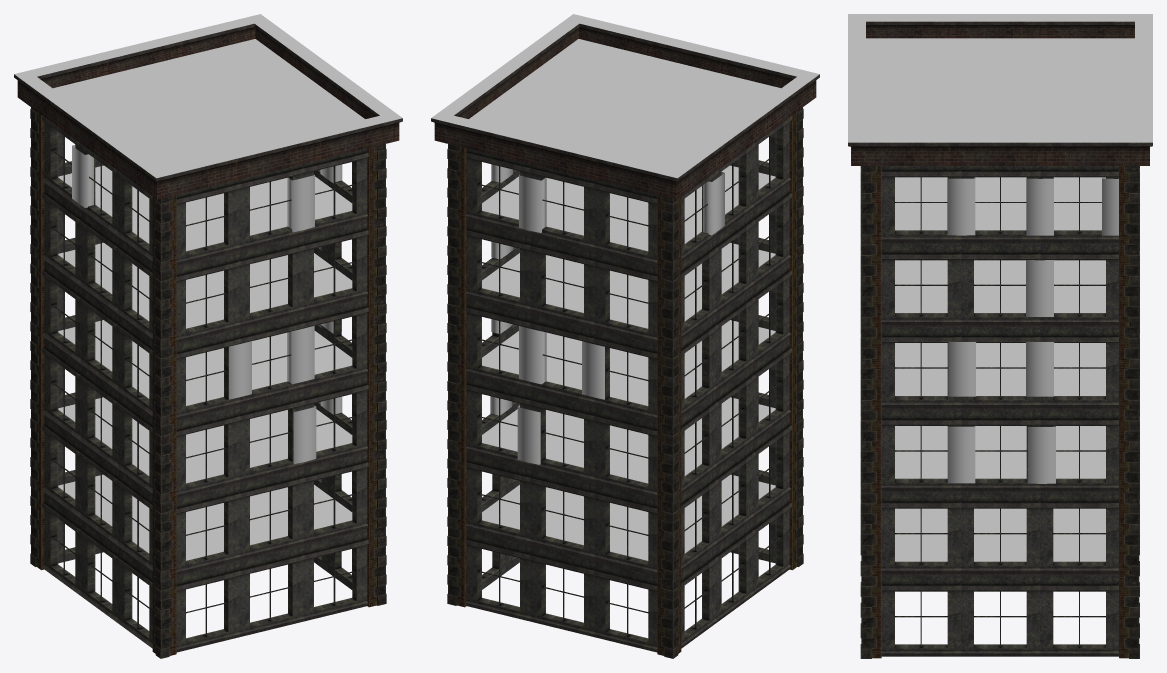
File: BuildingGreySm01.fbx
3 views of the same model, side by side, from view 1: azimuth 30°, elevation 25°; view 2: azimuth 150°, elevation 25°; view 3: azimuth 270°, elevation 25° (orthographic). The views are drawn at different scales.
Parts seen in each view (by area): view 1: Cube.294, Cube.684, Plane.104, Plane.107, Plane.105, Plane.108, Plane.106, Cube.722, Cube.721, Cube.724, Cube.723, Cube.730; view 2: Cube.294, Cube.684, Plane.104, Plane.107, Plane.105, Plane.106, Plane.108, Cube.727, Cube.726, Cube.725, Cube.728, Cube.730; view 3: Cube.294, Cube.684, Plane.104, Plane.105, Plane.106, Plane.107, Plane.108, Cube.715, Cube.729, Cube.714, Cube.720, Cube.717 (+3 smaller).
Boxes of the visible parts, box(x1,y1,x2,y2) form: Cube.294: box(30, 107, 386, 658); Cube.684: box(14, 14, 402, 199); Plane.104: box(58, 474, 352, 560); Plane.107: box(58, 242, 352, 328); Plane.105: box(58, 397, 352, 483); Plane.108: box(58, 165, 352, 251); Plane.106: box(58, 320, 352, 405); Cube.722: box(287, 326, 314, 384); Cube.721: box(287, 174, 314, 232); Cube.724: box(293, 405, 316, 464); Cube.723: box(229, 341, 251, 399); Cube.730: box(72, 145, 93, 207); Cube.294: box(447, 107, 803, 658); Cube.684: box(431, 14, 819, 199); Plane.104: box(482, 474, 775, 560); Plane.107: box(482, 242, 775, 328); Plane.105: box(482, 397, 775, 483); Plane.106: box(482, 320, 775, 405); Plane.108: box(482, 165, 775, 251); Cube.727: box(519, 326, 546, 384); Cube.726: box(519, 174, 546, 232); Cube.725: box(517, 405, 540, 464); Cube.728: box(582, 341, 604, 399); Cube.730: box(703, 172, 724, 235); Cube.294: box(860, 166, 1139, 658); Cube.684: box(848, 14, 1152, 165); Plane.104: box(895, 508, 1105, 561); Plane.105: box(895, 426, 1105, 478); Plane.106: box(895, 343, 1105, 395); Plane.107: box(895, 260, 1105, 312); Plane.108: box(895, 177, 1101, 230); Cube.715: box(947, 177, 975, 235); Cube.729: box(947, 426, 975, 483); Cube.714: box(1026, 177, 1053, 235); Cube.720: box(1028, 426, 1055, 483); Cube.717: box(1026, 260, 1053, 316).
Size of what is drawn, in the model's own units: 1360 by 2570 by 1360.
